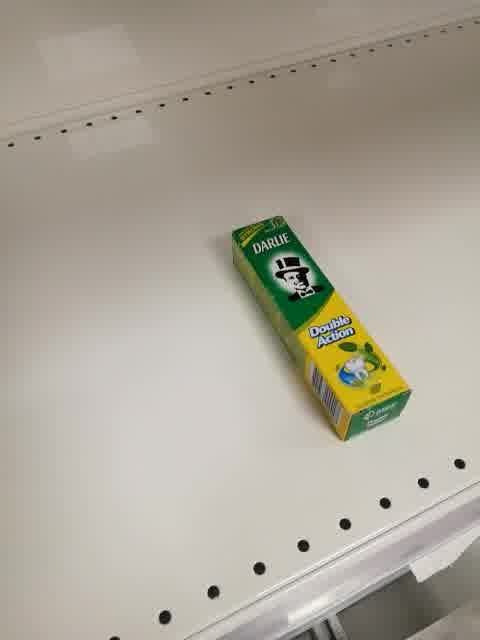toothpaste: (232, 214, 414, 444)
